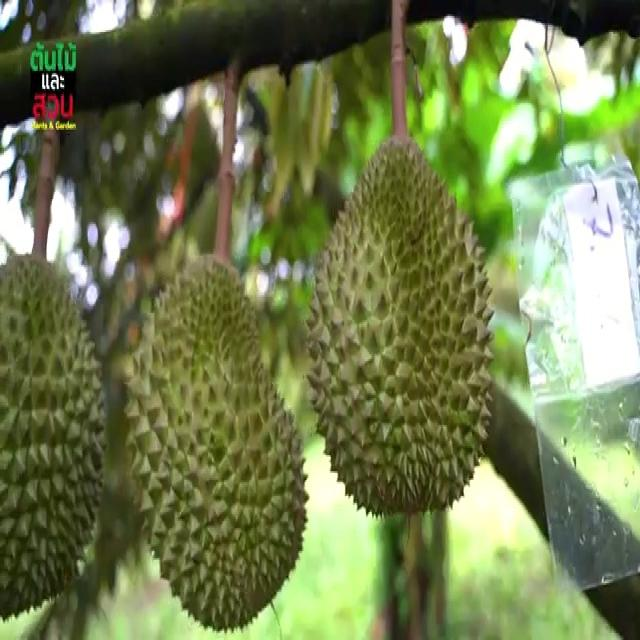durian: (305, 131, 498, 523), (121, 252, 312, 637), (0, 247, 110, 631)
